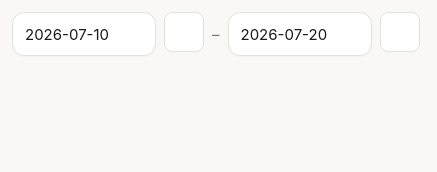
Test: DateRangePicker › mover 'hasta' antes de 'desde' corrige 'desde', no invierte el rango en silencio
The width and height of the screenshot is (437, 172).
Step 1. Replace the text in the field named "Hasta" with "2026-07-05" → coordinates (300, 34), box [228,12,372,56]
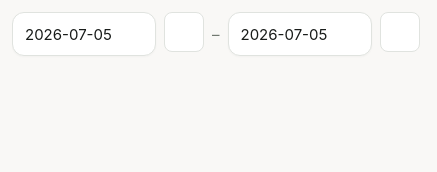
Expected: the field named "Desde" holds "2026-07-05", [12,12,156,56]
